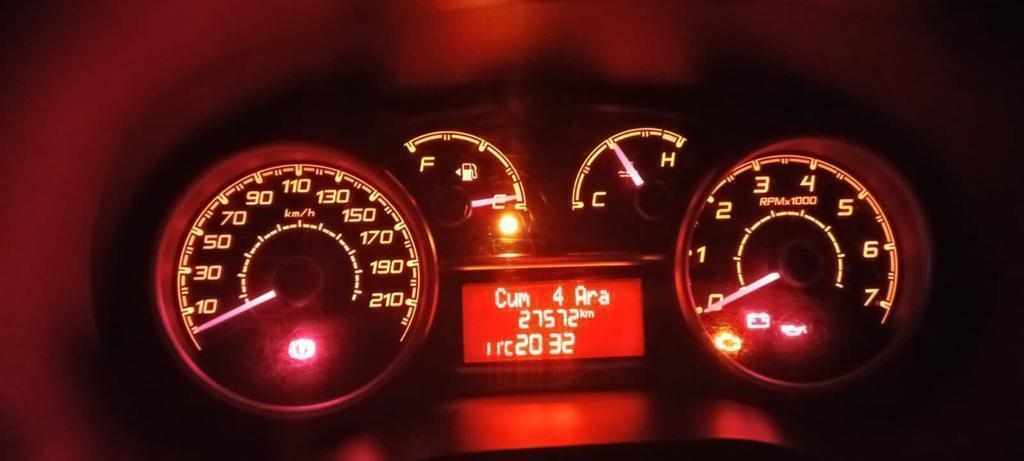0: (529, 332, 542, 356)
1: (485, 340, 492, 356), (495, 340, 501, 357)
2: (561, 330, 575, 355), (514, 332, 528, 356), (517, 308, 530, 329), (568, 307, 578, 328)
3: (547, 331, 561, 355)
4: (551, 284, 565, 306)
5: (543, 307, 554, 328)
7: (556, 308, 567, 327), (532, 308, 542, 328)
X: (493, 286, 507, 309), (574, 284, 587, 306), (598, 288, 611, 305), (507, 290, 519, 308), (586, 289, 598, 306), (519, 290, 530, 308), (504, 339, 513, 356), (585, 309, 594, 318), (579, 307, 585, 318)
odometer: (459, 274, 646, 367)
